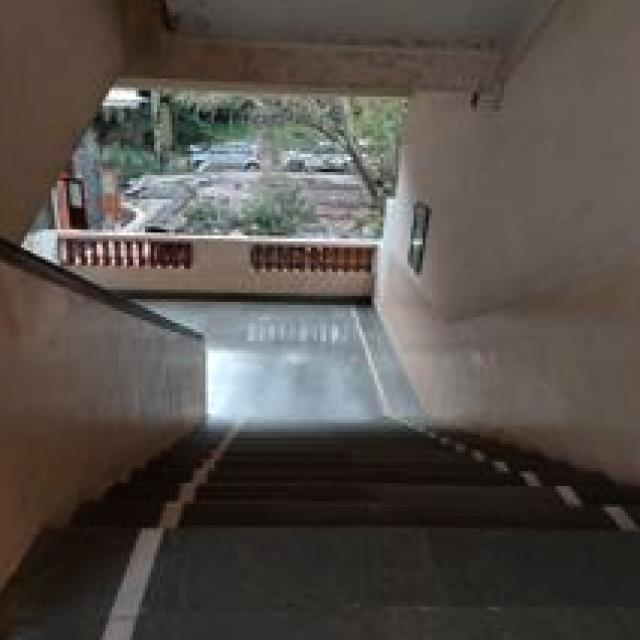downstair: (155, 400, 556, 572)
